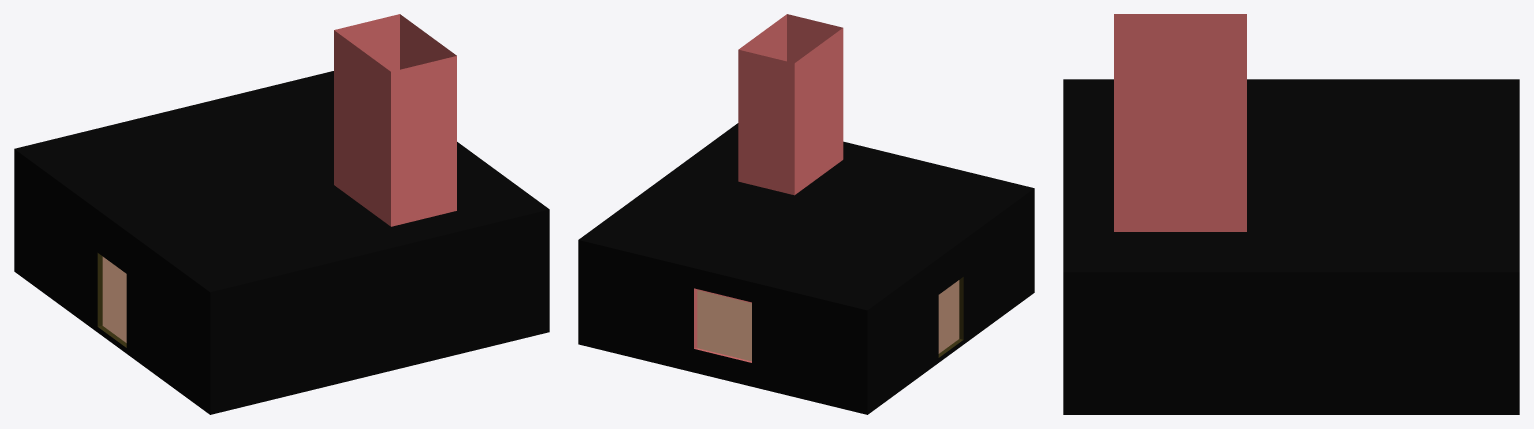
File: Classroom.fbx
3 renders of one model, left to right at view 1: azimuth 30°, elevation 25°; view 2: azimuth 150°, elevation 25°; view 3: azimuth 270°, elevation 25°, orthographic. The views are drawn at different scales.
Parts seen in each view (by area): view 1: Model; view 2: Model; view 3: Model.
Part boxes in pixels (x1,y1,x2,y2): Model: (14,14,549,414); Model: (578,14,1034,414); Model: (1063,14,1519,414).
Bounding box in the file's own units: 10.74 × 8.39 × 10.74.
